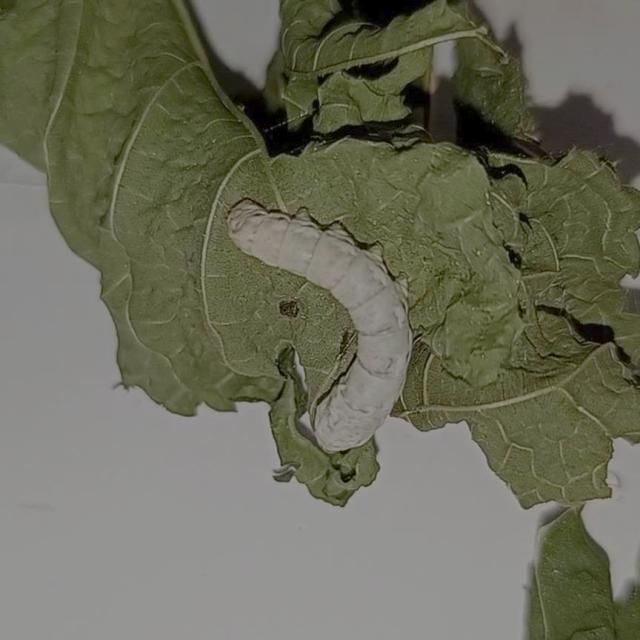Healthy: (216, 189, 428, 449)
